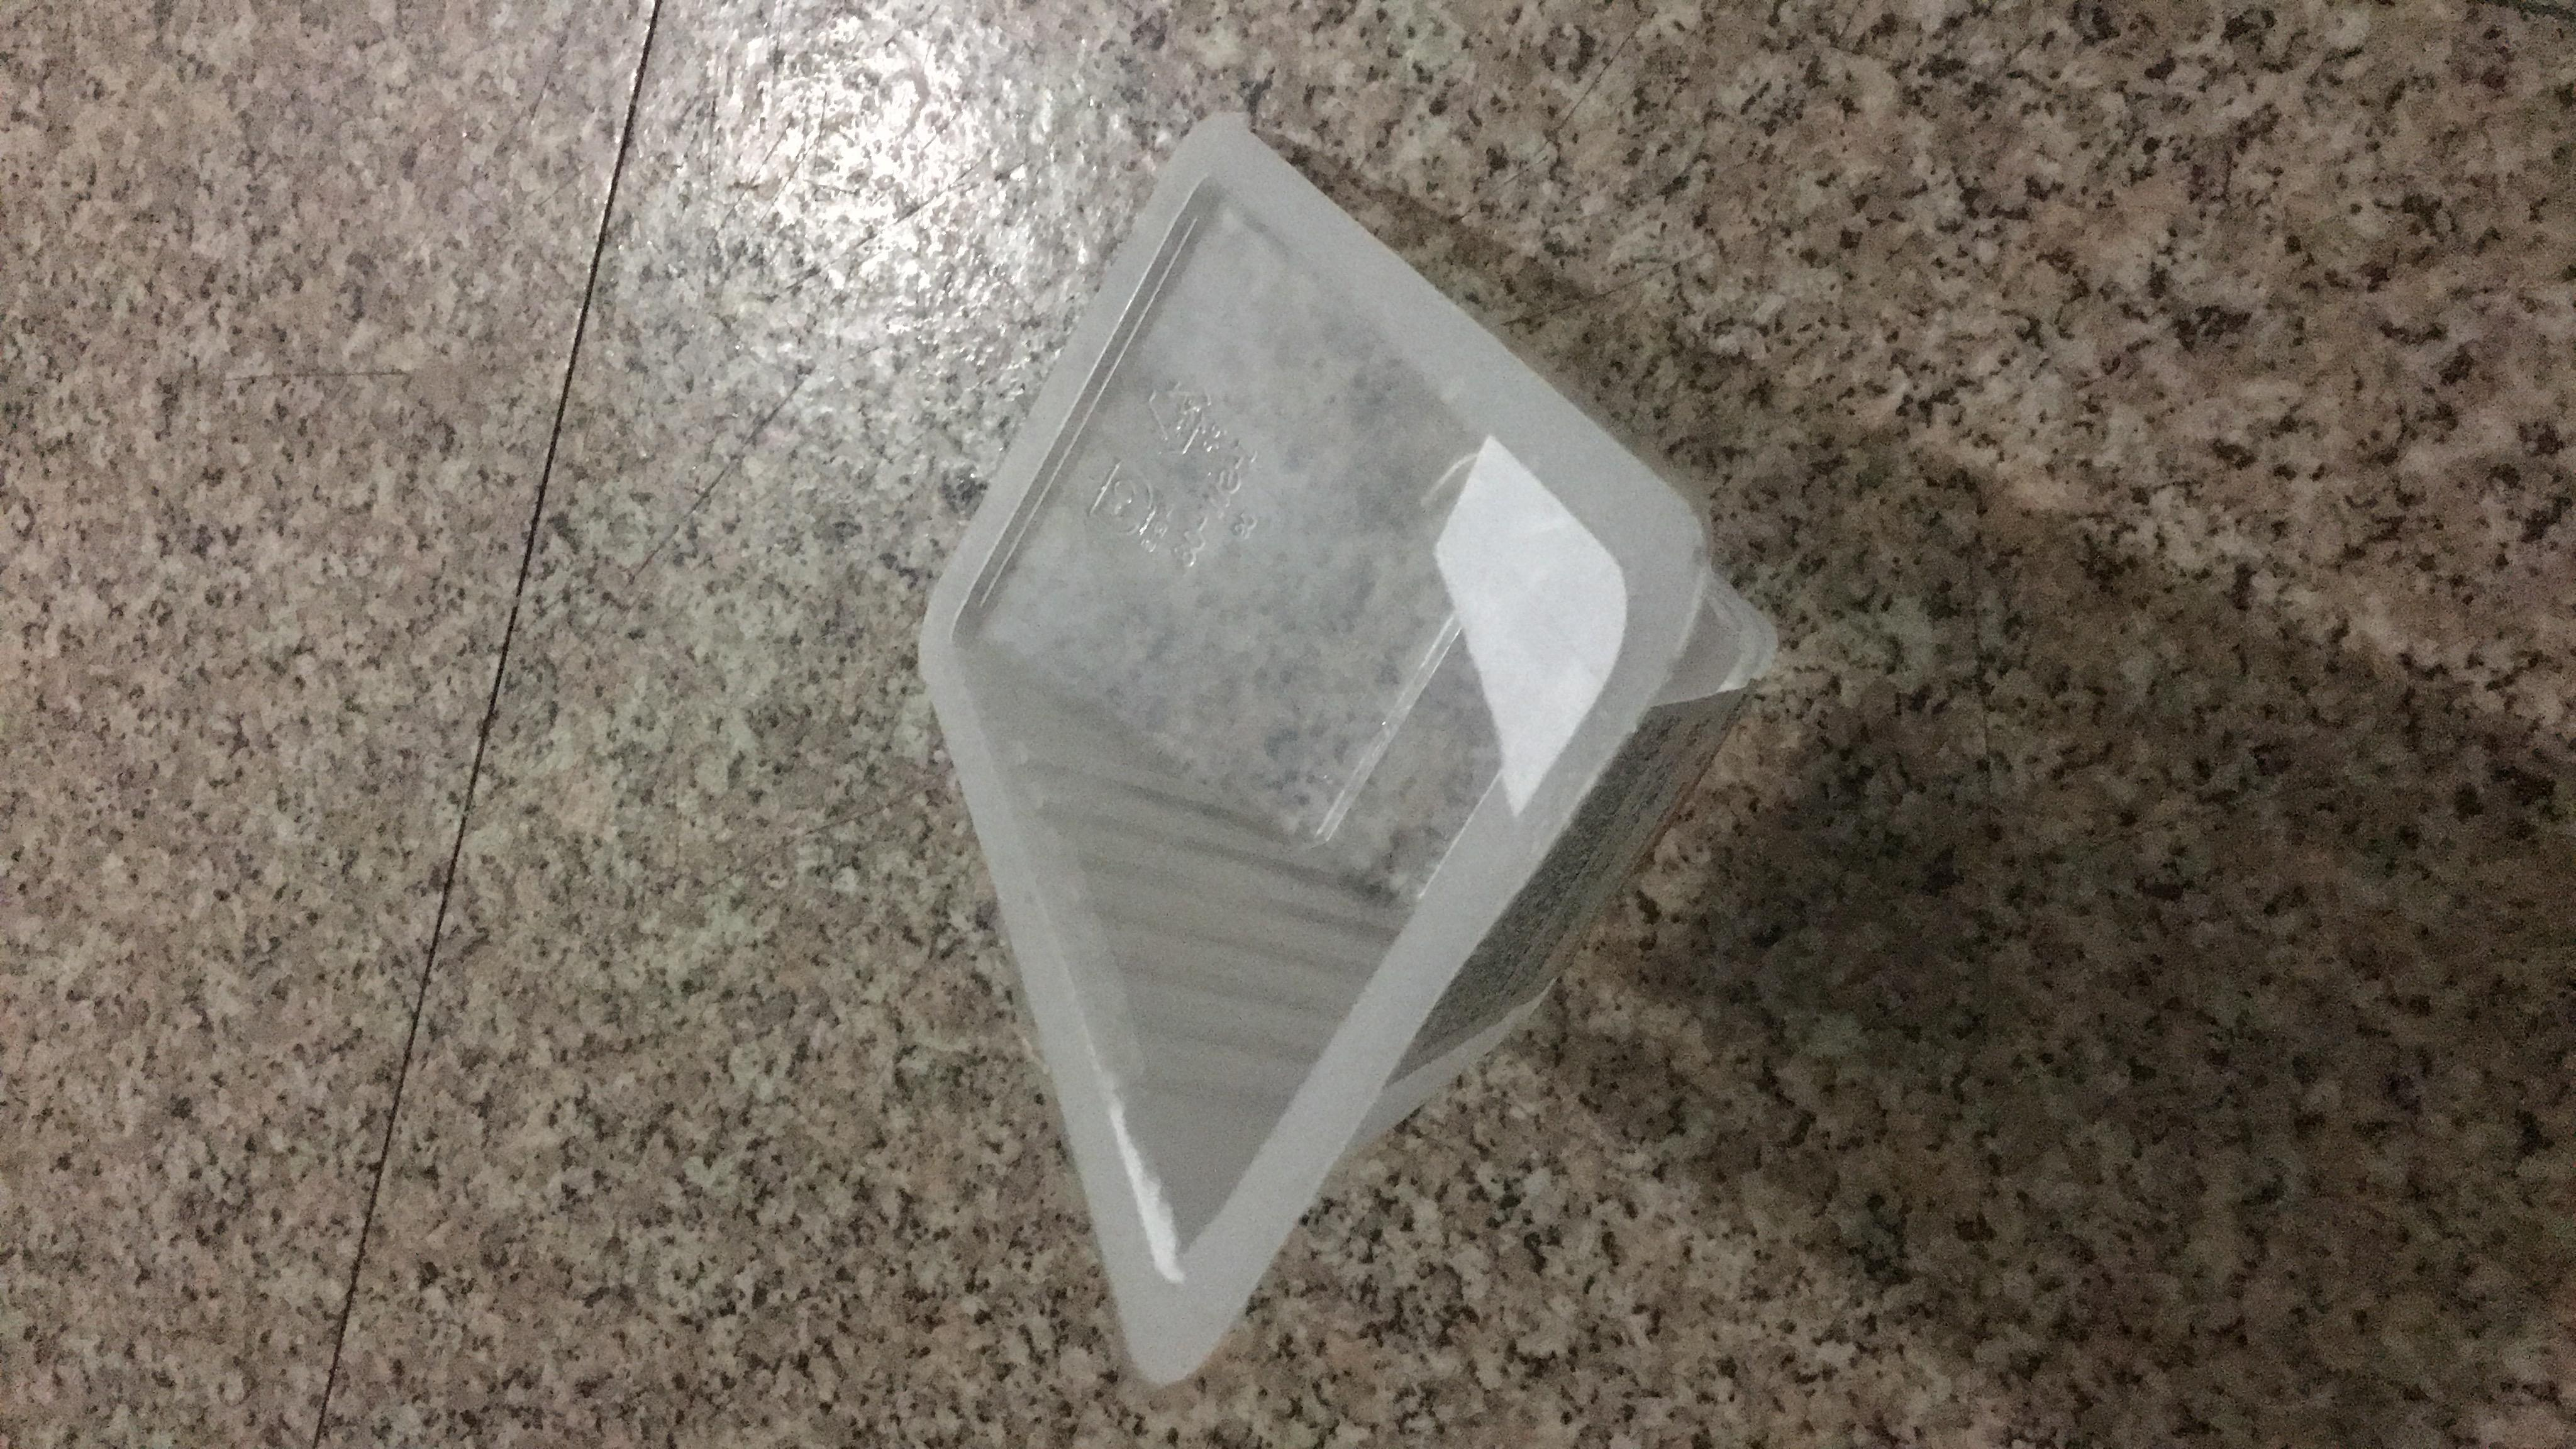bottle: (53, 481, 2505, 1003)
